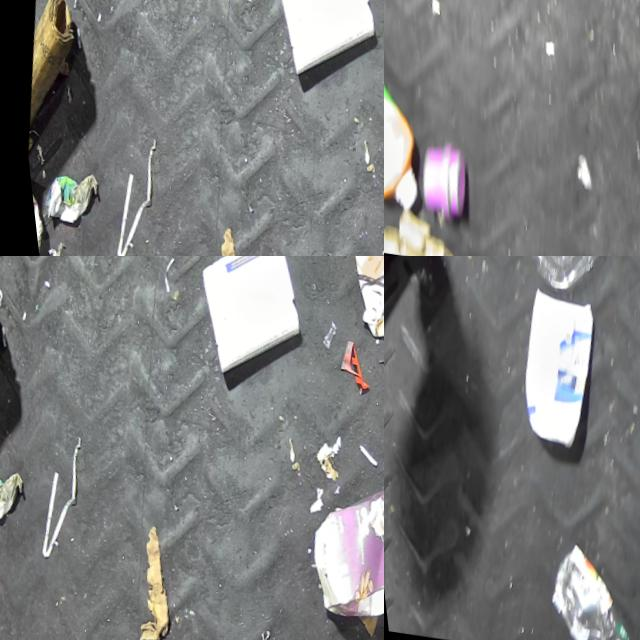can: (496, 279, 605, 456), (22, 173, 43, 256)
non_white_jug: (287, 466, 384, 636), (330, 256, 384, 341)
plastic_bottle: (522, 537, 640, 640), (620, 57, 640, 230)
